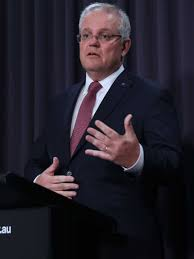Glasses: (72, 31, 127, 42)
